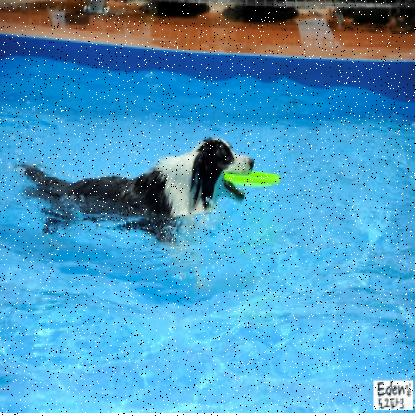dog: (19, 121, 292, 266)
